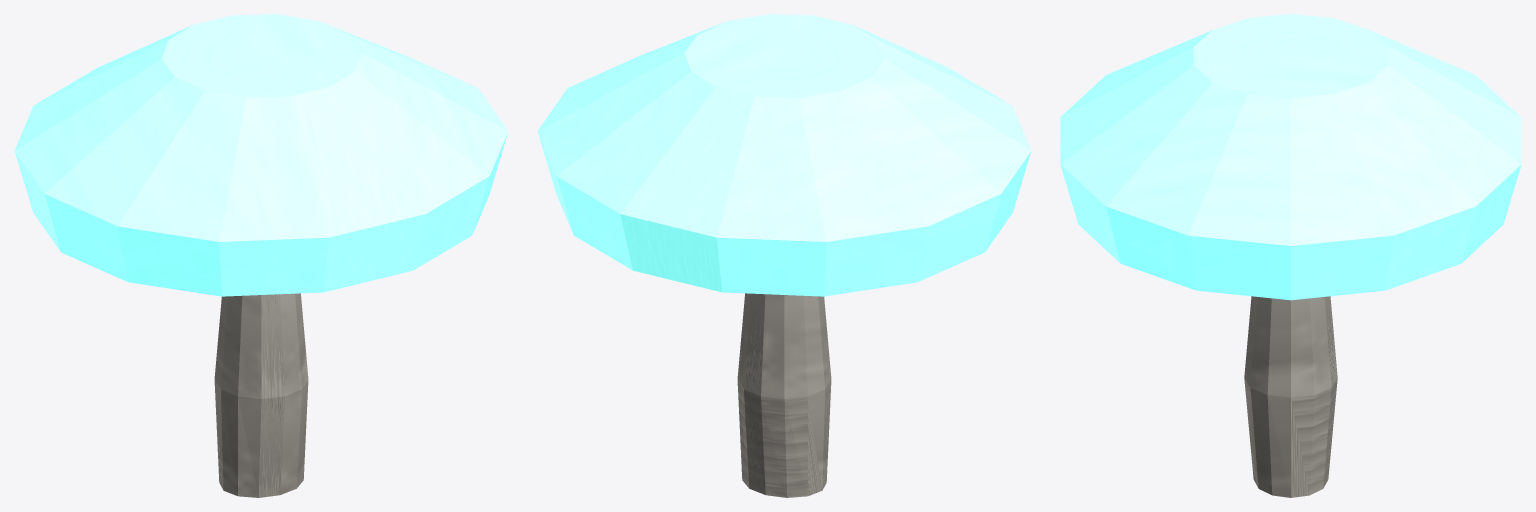
File: glow_mushroom.glb
3 views of the same model, side by side, from view 1: azimuth 30°, elevation 25°; view 2: azimuth 150°, elevation 25°; view 3: azimuth 270°, elevation 25° (orthographic).
Visible parts, largest first — view 1: glowcyan, bone; view 2: glowcyan, bone; view 3: glowcyan, bone.
Part boxes in pixels (x1,y1,x2,y2): glowcyan: (14, 14, 508, 296); bone: (214, 293, 308, 497); glowcyan: (537, 14, 1031, 296); bone: (737, 293, 831, 497); glowcyan: (1060, 14, 1521, 300); bone: (1244, 296, 1337, 497).
Bounding box in the file's own units: 0.8 × 0.75 × 0.7409.
2 materials, 2 textured.
